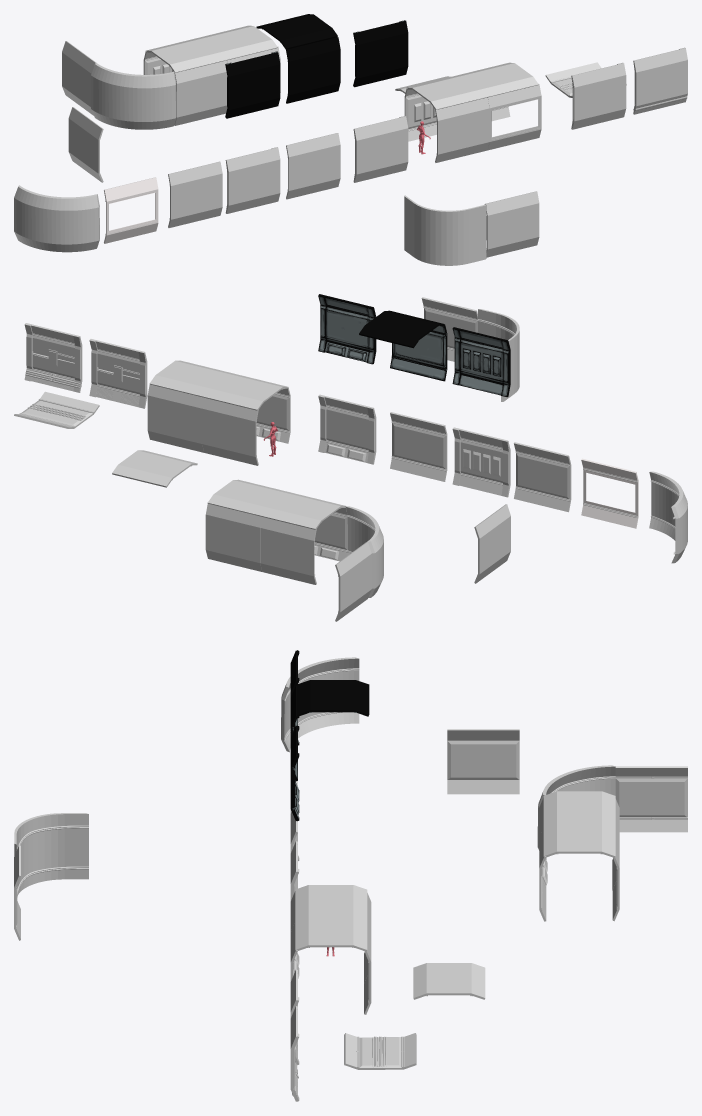
Rendered from modularwalls.fbx.
The picture shows the model from 3 angles, top to bottom: view 1: azimuth 30°, elevation 25°; view 2: azimuth 150°, elevation 25°; view 3: azimuth 270°, elevation 25°; orthographic projection. The views are drawn at different scales.
Parts seen in each view (by area): view 1: Cube.027, Cube.022, Cube.020, Cylinder.013, Cylinder.021, Cylinder.026, Cylinder.005, Cylinder.035, Cube, Cube.031, Cube.002, Cylinder.040 (+15 smaller); view 2: Cylinder.005, Cube, Cylinder.033, Cylinder.019, Cylinder.017, Cylinder.030, Cube.021, Cylinder.021, Cylinder.013, Cube.027, Cylinder.040, Cylinder.035 (+17 smaller); view 3: Cube.023, Cylinder.027, Cube.020, Cube.027, Cylinder.014, Cylinder.041, Cylinder.034, Cylinder.020, Cylinder.025, Cylinder.016, Cylinder.031, Cube.022.
Boxes of the visible parts, x1,y1,x2,y2 form: Cube.027: [14, 185, 99, 252]; Cube.022: [91, 63, 176, 129]; Cube.020: [404, 195, 486, 265]; Cylinder.013: [354, 116, 408, 182]; Cylinder.021: [572, 63, 626, 129]; Cylinder.026: [484, 191, 539, 257]; Cylinder.005: [286, 133, 340, 199]; Cylinder.035: [286, 37, 340, 103]; Cube: [168, 161, 222, 227]; Cube.031: [226, 52, 280, 118]; Cube.002: [225, 147, 280, 213]; Cylinder.040: [354, 20, 408, 87]; Cylinder.005: [390, 412, 447, 481]; Cube: [514, 442, 571, 512]; Cylinder.033: [205, 503, 262, 571]; Cylinder.019: [202, 397, 258, 465]; Cylinder.017: [147, 384, 204, 452]; Cylinder.030: [260, 517, 316, 584]; Cube.021: [24, 323, 82, 392]; Cylinder.021: [91, 339, 147, 407]; Cylinder.013: [319, 394, 376, 464]; Cube.027: [649, 471, 687, 563]; Cylinder.040: [319, 294, 376, 363]; Cylinder.035: [390, 324, 447, 381]; Cube.023: [447, 729, 519, 794]; Cylinder.027: [615, 766, 687, 832]; Cube.020: [14, 813, 88, 895]; Cube.027: [281, 657, 359, 752]; Cylinder.014: [413, 963, 485, 999]; Cylinder.041: [297, 680, 369, 716]; Cylinder.034: [543, 821, 615, 857]; Cylinder.020: [295, 915, 367, 950]; Cylinder.025: [344, 1033, 416, 1069]; Cylinder.016: [295, 885, 367, 919]; Cylinder.031: [543, 791, 615, 825]; Cube.022: [537, 765, 615, 859].
Bounding box in the file's own units: 4277 × 980 × 3194.
